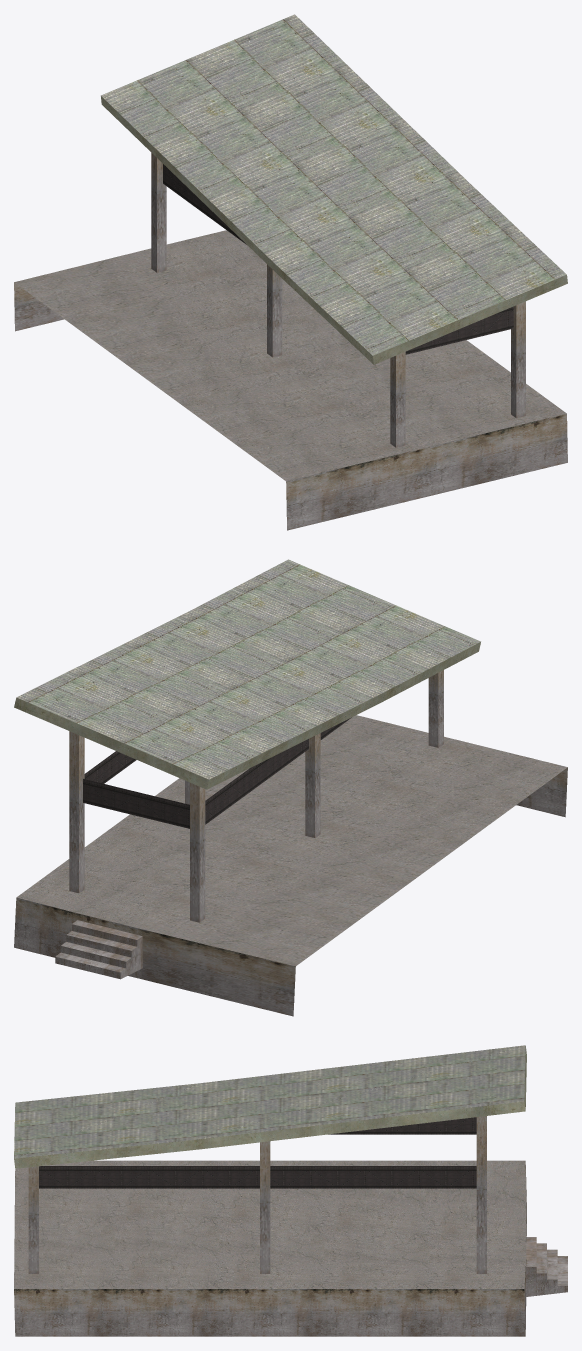
The model's file is des_quarryhut02.obj.
3 views of the same model, one above another, from view 1: azimuth 30°, elevation 25°; view 2: azimuth 150°, elevation 25°; view 3: azimuth 270°, elevation 25° (orthographic). The views are drawn at different scales.
Visible parts, largest first — view 1: des_quarryhut02; view 2: des_quarryhut02; view 3: des_quarryhut02.
Part boxes in pixels (bbox=[...]): des_quarryhut02: bbox=[14, 14, 567, 530]; des_quarryhut02: bbox=[14, 559, 567, 1016]; des_quarryhut02: bbox=[14, 1045, 567, 1336].
Bounding box in the file's own units: 8.75 × 7.42 × 15.89.
6 materials, 6 textured.
